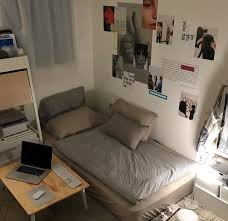Bed: (33, 85, 201, 221)
Table: (0, 149, 90, 221)
curtain: (10, 1, 79, 65)
